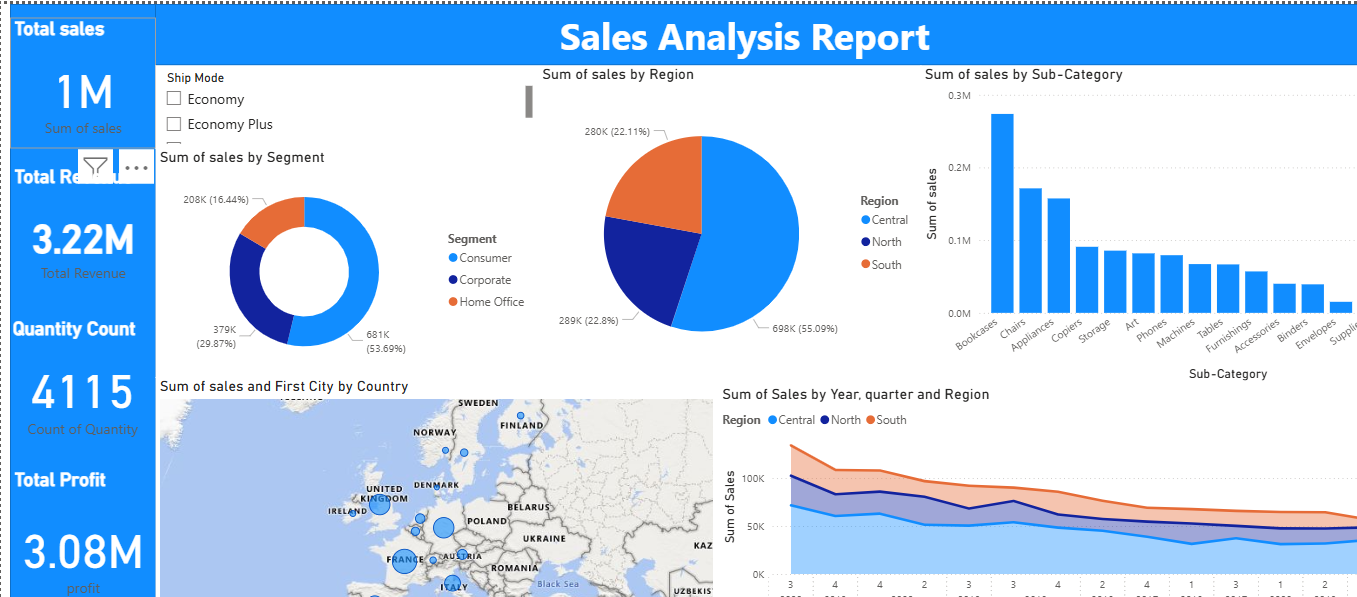

What the dashboard file says about the page in this screenshot:
{"tool":"powerbi","page":{"name":"Page 1","canvas":[1700,720],"ordinal":0},"visuals":[{"type":"shape","box":[10.1,0,1689.3,70.4],"z":0},{"type":"shape","box":[10.5,0,167.8,719.3],"z":1000},{"type":"card","title":"Total sales","fields":{"Values":["List of Orders.Sum of sales"]},"box":[10.5,14.7,167.8,151],"z":2000},{"type":"card","title":"Quantity Count","fields":{"Values":["CountNonNull(List of Orders.Quantity)"]},"box":[8.4,360.7,169.9,153.1],"z":3000},{"type":"card","title":"Total Revenue","fields":{"Values":["List of Orders.Total Revenue"]},"box":[10.5,186.6,167.8,153.1],"z":4000},{"type":"card","title":"Total Profit","fields":{"Values":["List of Orders.profit"]},"box":[10.3,534,167.7,171.1],"z":5000},{"type":"stackedAreaChart","fields":{"Y":["Sum(List of Orders.Sales)"],"Series":["List of Orders.Region"],"Category":["List of Orders.Year","List of Orders.quarter"]},"box":[824.1,438.3,876.6,281],"z":6000},{"type":"map","fields":{"Size":["List of Orders.Sum of sales"],"Category":["List of Orders.Country"]},"box":[178.3,429.9,645.9,289.4],"z":8000},{"type":"columnChart","fields":{"Category":["List of Orders.Sub-Category"],"Y":["List of Orders.Sum of sales"]},"box":[1056.9,71.3,643.8,367],"z":9000},{"type":"pieChart","fields":{"Category":["List of Orders.Region"],"Y":["List of Orders.Sum of sales"]},"box":[616.5,71.3,440.4,367],"z":10000},{"type":"donutChart","fields":{"Category":["List of Orders.Segment"],"Y":["List of Orders.Sum of sales"]},"box":[178.3,165.7,438.3,264.2],"z":11000},{"type":"slicer","fields":{"Values":["List of Orders.Ship Mode"]},"box":[178.3,71.3,438.3,94.4],"z":12000}]}

Visuals, with their boxes on the page's 1700x720 design canvas (x1, y1, x2, y2). These are canvas units, not pixel positions in the 1357x597 screenshot, which may show the page scaled, cropped or inside an application window:
shape: pyautogui.locateOnScreen(10, 0, 1699, 70)
shape: pyautogui.locateOnScreen(10, 0, 178, 719)
"Total sales" card: pyautogui.locateOnScreen(10, 15, 178, 166)
"Quantity Count" card: pyautogui.locateOnScreen(8, 361, 178, 514)
"Total Revenue" card: pyautogui.locateOnScreen(10, 187, 178, 340)
"Total Profit" card: pyautogui.locateOnScreen(10, 534, 178, 705)
stackedAreaChart - Sum(List of Orders.Sales) x List of Orders.Region: pyautogui.locateOnScreen(824, 438, 1701, 719)
map - List of Orders.Sum of sales x List of Orders.Country: pyautogui.locateOnScreen(178, 430, 824, 719)
columnChart - List of Orders.Sub-Category x List of Orders.Sum of sales: pyautogui.locateOnScreen(1057, 71, 1701, 438)
pieChart - List of Orders.Region x List of Orders.Sum of sales: pyautogui.locateOnScreen(616, 71, 1057, 438)
donutChart - List of Orders.Segment x List of Orders.Sum of sales: pyautogui.locateOnScreen(178, 166, 617, 430)
slicer - List of Orders.Ship Mode: pyautogui.locateOnScreen(178, 71, 617, 166)
